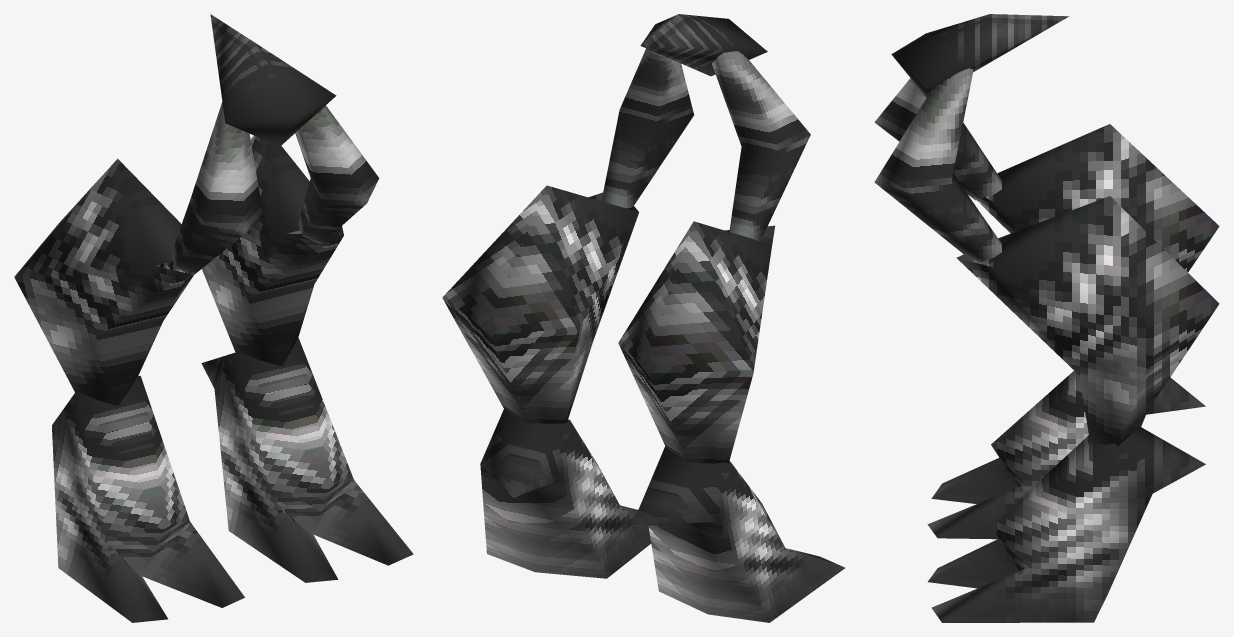
Rendered from AlienGenericLegs_Skel.glb.
The picture shows the model from 3 angles, left to right: view 1: azimuth 30°, elevation 25°; view 2: azimuth 150°, elevation 25°; view 3: azimuth 270°, elevation 25°; orthographic projection.
Visible parts, largest first — view 1: AlienGenericLegs_Skel_part06, AlienGenericLegs_Skel_part03, AlienGenericLegs_Skel_part05, AlienGenericLegs_Skel_part02, AlienGenericLegs_Skel_part00, AlienGenericLegs_Skel_part04, AlienGenericLegs_Skel_part01; view 2: AlienGenericLegs_Skel_part02, AlienGenericLegs_Skel_part05, AlienGenericLegs_Skel_part06, AlienGenericLegs_Skel_part03, AlienGenericLegs_Skel_part04, AlienGenericLegs_Skel_part01, AlienGenericLegs_Skel_part00; view 3: AlienGenericLegs_Skel_part02, AlienGenericLegs_Skel_part03, AlienGenericLegs_Skel_part05, AlienGenericLegs_Skel_part06, AlienGenericLegs_Skel_part01, AlienGenericLegs_Skel_part00, AlienGenericLegs_Skel_part04.
Part boxes in pixels (left/top/right/bottom): AlienGenericLegs_Skel_part06: left=52, top=375, right=244, bottom=622; AlienGenericLegs_Skel_part03: left=201, top=337, right=413, bottom=582; AlienGenericLegs_Skel_part05: left=14, top=158, right=193, bottom=405; AlienGenericLegs_Skel_part02: left=202, top=135, right=343, bottom=365; AlienGenericLegs_Skel_part00: left=210, top=14, right=336, bottom=146; AlienGenericLegs_Skel_part04: left=171, top=92, right=263, bottom=275; AlienGenericLegs_Skel_part01: left=295, top=105, right=379, bottom=244; AlienGenericLegs_Skel_part02: left=442, top=185, right=639, bottom=423; AlienGenericLegs_Skel_part05: left=618, top=221, right=775, bottom=463; AlienGenericLegs_Skel_part06: left=631, top=446, right=845, bottom=622; AlienGenericLegs_Skel_part03: left=480, top=408, right=651, bottom=578; AlienGenericLegs_Skel_part04: left=712, top=46, right=810, bottom=240; AlienGenericLegs_Skel_part01: left=601, top=48, right=693, bottom=208; AlienGenericLegs_Skel_part00: left=640, top=14, right=767, bottom=76; AlienGenericLegs_Skel_part02: left=956, top=196, right=1219, bottom=446; AlienGenericLegs_Skel_part03: left=928, top=425, right=1205, bottom=622; AlienGenericLegs_Skel_part05: left=976, top=124, right=1219, bottom=272; AlienGenericLegs_Skel_part06: left=927, top=370, right=1205, bottom=539; AlienGenericLegs_Skel_part01: left=874, top=68, right=1001, bottom=262; AlienGenericLegs_Skel_part00: left=891, top=14, right=1068, bottom=97; AlienGenericLegs_Skel_part04: left=874, top=78, right=1001, bottom=200.
Size of the model in its own units: 12.95 by 21.34 by 12.37.
Materials: 4 (4 with a texture image).
